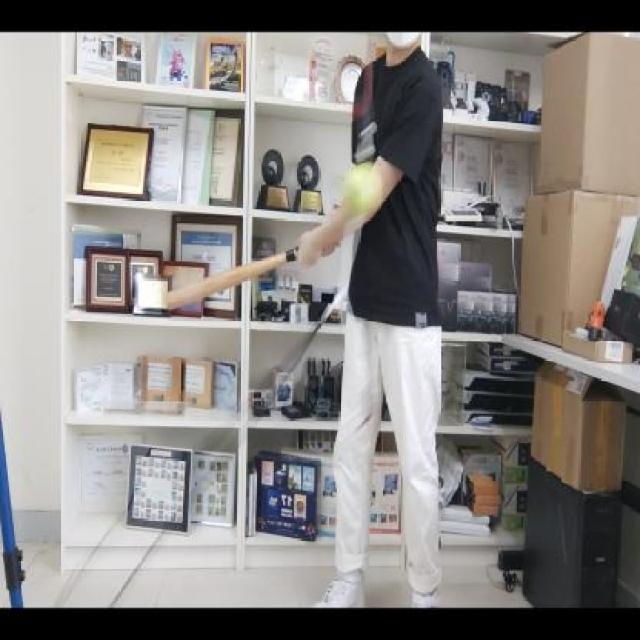baseball: (345, 159, 380, 221)
